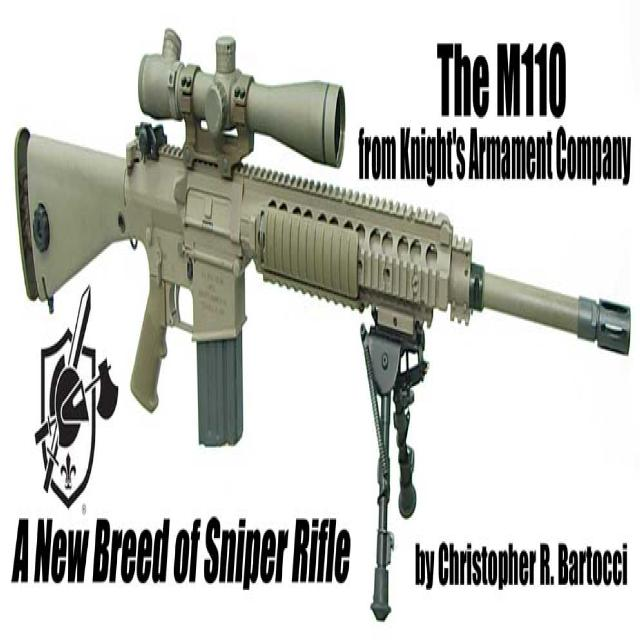Rifle: (14, 28, 632, 450)
